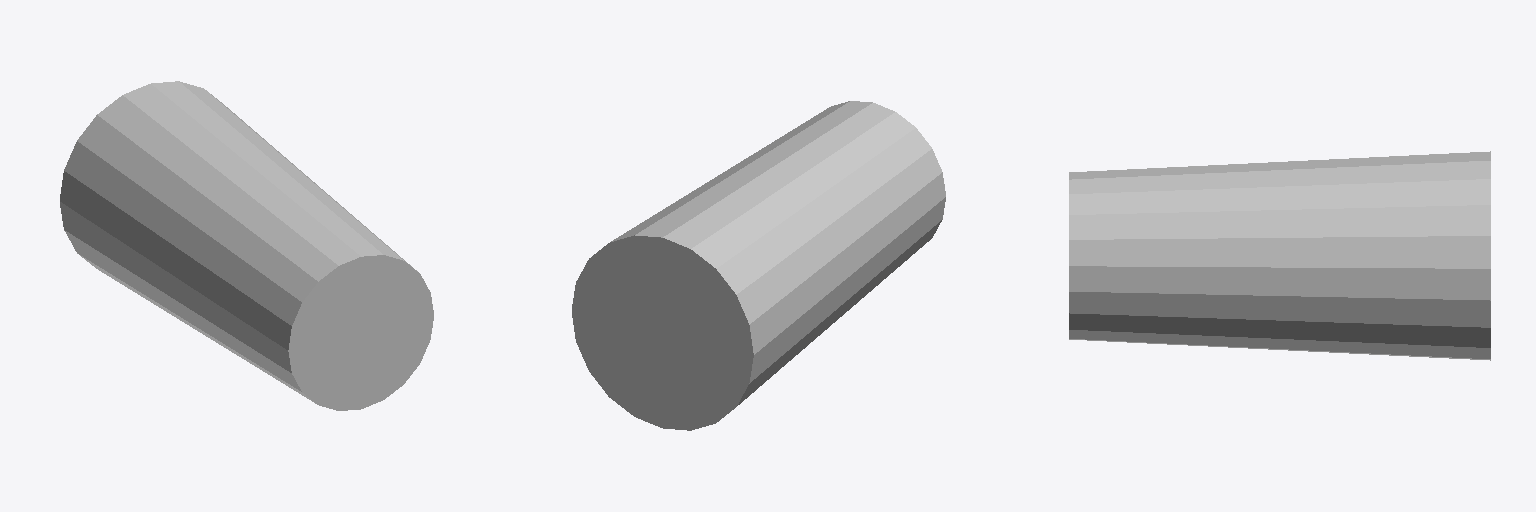
The model's file is branch.obj.
The picture shows the model from 3 angles: view 1: azimuth 30°, elevation 25°; view 2: azimuth 150°, elevation 25°; view 3: azimuth 270°, elevation 25°; orthographic projection.
Parts seen in each view (by area): view 1: Cylinder; view 2: Cylinder; view 3: Cylinder.
Part boxes in pixels (left/top/right/bottom): Cylinder: left=60, top=81, right=433, bottom=410; Cylinder: left=572, top=101, right=945, bottom=430; Cylinder: left=1069, top=151, right=1490, bottom=360.
Bounding box in the file's own units: 2 × 2 × 4.